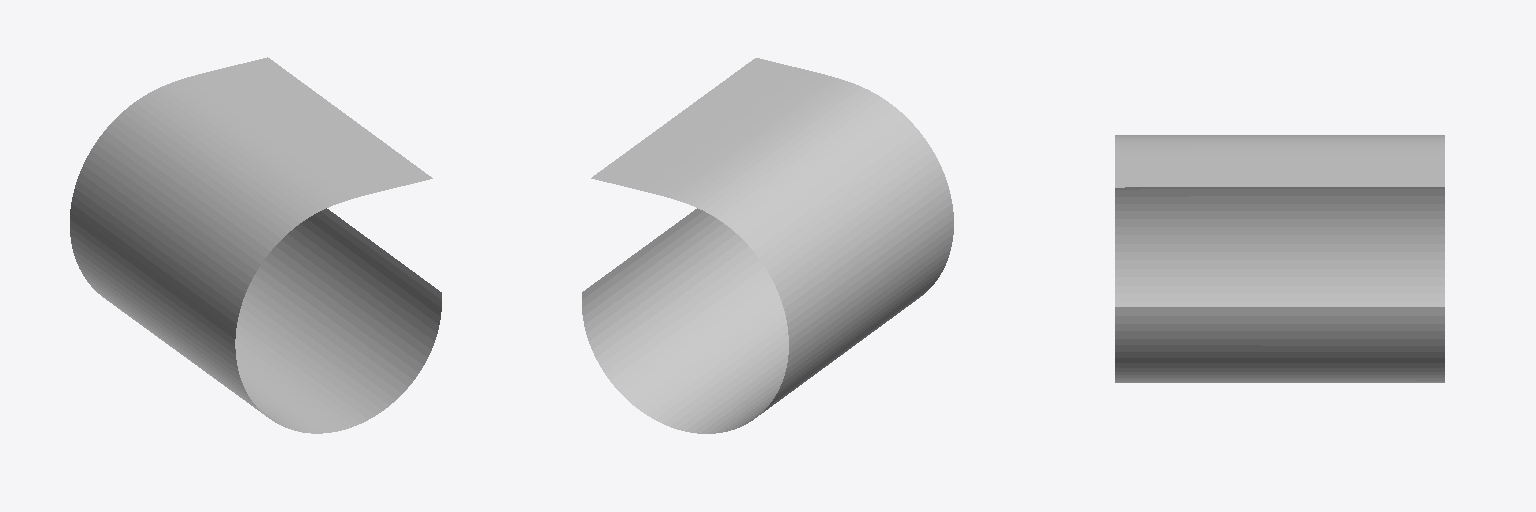
File: CurvePaper_000020.obj
3 renders of one model, left to right at view 1: azimuth 30°, elevation 25°; view 2: azimuth 150°, elevation 25°; view 3: azimuth 270°, elevation 25°, orthographic.
Parts seen in each view (by area): view 1: Plane; view 2: Plane; view 3: Plane.
Boxes of the visible parts, x1=… form: Plane: x1=70, y1=57, x2=441, y2=433; Plane: x1=582, y1=58, x2=953, y2=433; Plane: x1=1115, y1=135, x2=1444, y2=382.
Bounding box in the file's own units: 1.64 × 1.74 × 2.26.